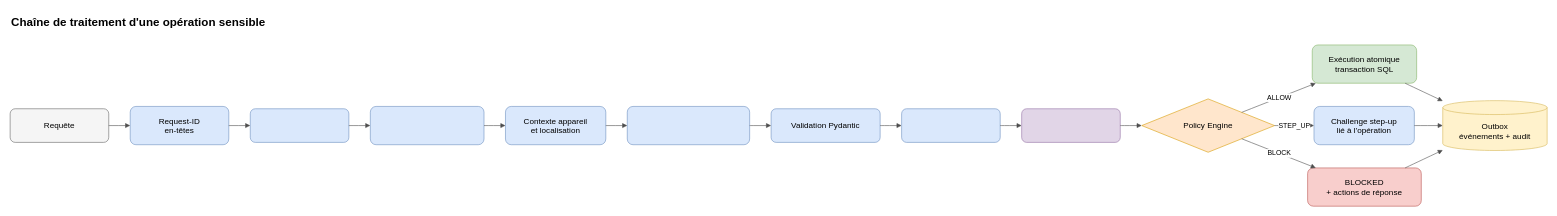
This 1557x216 diagram has some shape labels left out. Each missing label, with the centre of its shape:
"Authentification JWT + session active" belongs at (x=427, y=125).
"Autorisation permission + propriété" belongs at (x=688, y=125).
"Rate limiting" belongs at (x=299, y=125).
"Risk Engine" belongs at (x=1070, y=125).
"Service métier" belongs at (x=950, y=125).
